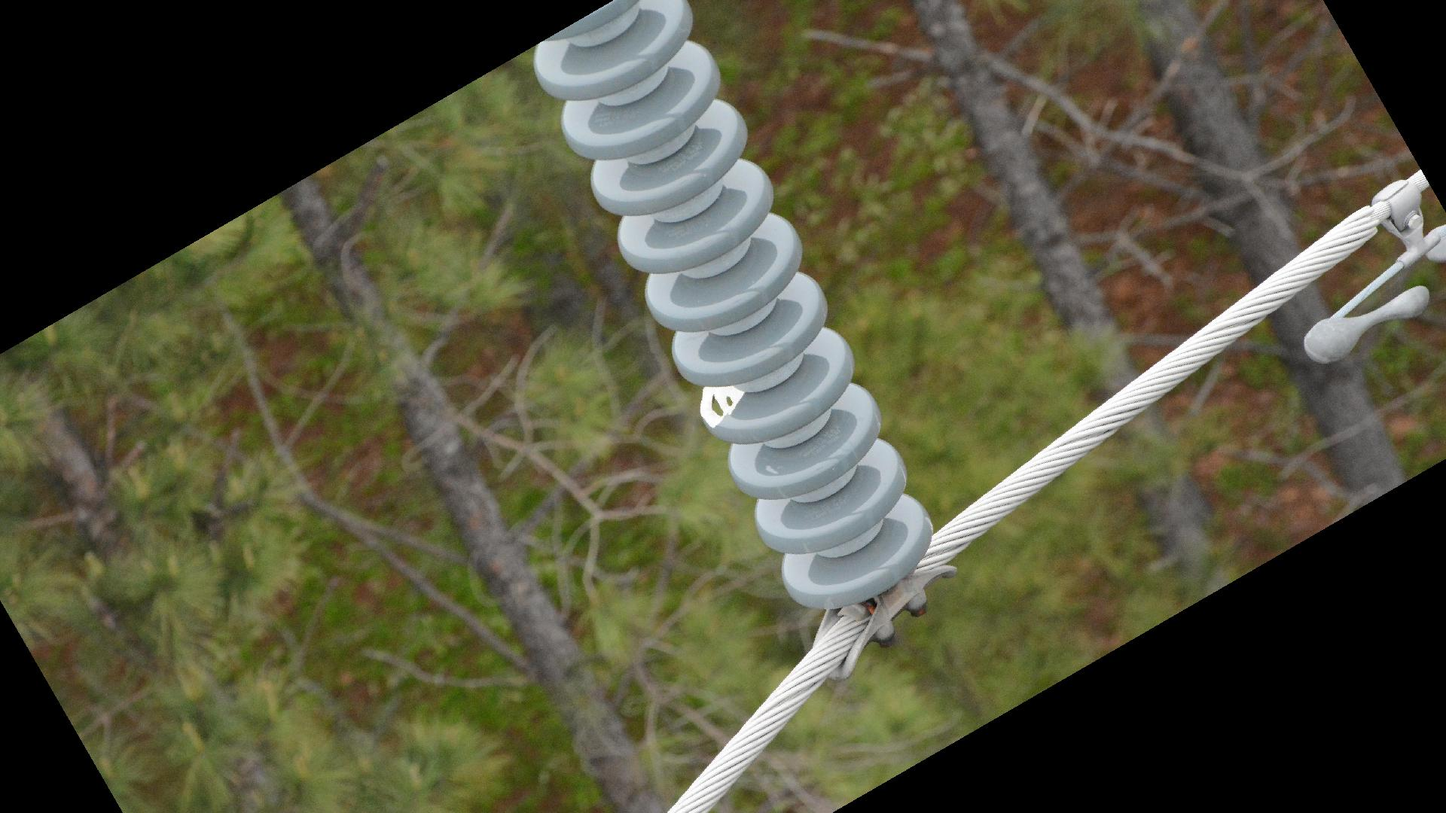insulator: (527, 1, 939, 614)
insulator_breakage: (696, 377, 749, 436)
